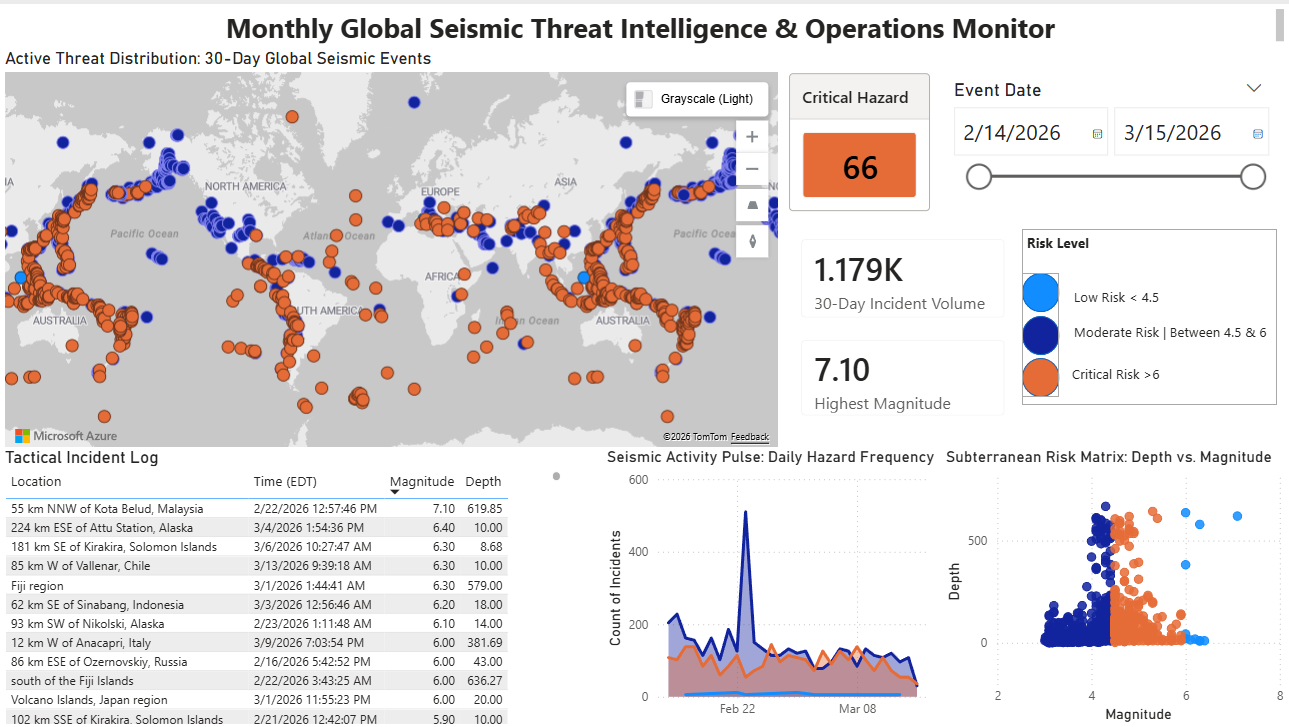

What the dashboard file says about the page in this screenshot:
{"tool":"powerbi","page":{"name":"Page 1","canvas":[1280,720],"ordinal":0},"visuals":[{"type":"azureMap","title":"Active Threat Distribution: 30-Day Global Seismic Events","fields":{"Series":["all_month.Risk Level"],"X":["all_month.longitude"],"Y":["all_month.latitude"]},"box":[0,51.3,778.5,393.5],"z":0},{"type":"group","id":"g1","title":"Group 1","box":[1014.8,267.3,37.2,123.1],"z":0,"group":"g2"},{"type":"shape","box":[1014.8,267.3,37.4,38.9],"z":0,"group":"g1"},{"type":"cardVisual","fields":{"Data":["Count(all_month.features.id)"]},"box":[778.5,216,236.3,112.3],"z":1000},{"type":"textbox","box":[1061,277.2,174.3,42.8],"z":1000,"group":"g2"},{"type":"shape","box":[1014.8,309.6,37.4,38.9],"z":1000,"group":"g1"},{"type":"textbox","box":[1061,311.4,207.5,42.8],"z":2000,"group":"g2"},{"type":"cardVisual","fields":{"Data":["Max(all_month.features.properties.mag)"]},"box":[778.5,316.5,236.3,109.1],"z":2000},{"type":"shape","box":[1014.8,351.5,37.4,38.9],"z":2000,"group":"g1"},{"type":"slicer","fields":{"Values":["all_month.Event EDT"]},"box":[934.6,69.5,331.5,150.8],"z":3000},{"type":"textbox","box":[1059.9,353.1,137.9,44.9],"z":3000,"group":"g2"},{"type":"tableEx","title":"Tactical Incident Log","fields":{"Values":["all_month.features.properties.place","all_month.Event EDT","all_month.features.properties.mag","all_month.depth"]},"box":[0,439.5,562.5,280.2],"z":4000},{"type":"areaChart","title":"Seismic Activity Pulse: Daily Hazard Frequency","fields":{"Y":["CountNonNull(all_month.features.properties.mag)"],"Series":["all_month.Risk Level"],"Category":["all_month.Event EDT.Variation.Date Hierarchy.Year","all_month.Event EDT.Variation.Date Hierarchy.Quarter","all_month.Event EDT.Variation.Date Hierarchy.Month","all_month.Event EDT.Variation.Date Hierarchy.Day"]},"box":[573.2,439.5,361.4,278],"z":5000},{"type":"scatterChart","title":"Subterranean Risk Matrix: Depth vs. Magnitude","fields":{"Y":["all_month.depth"],"X":["all_month.features.properties.mag"],"Series":["all_month.Risk Level"]},"box":[934.6,439.5,345.4,278],"z":6000},{"type":"textbox","box":[0,0,1280,51.3],"z":8000},{"type":"textbox","box":[1014.8,223.5,167.8,34.2],"z":8001,"group":"g2"},{"type":"group","id":"g2","title":"Group 2","box":[1014.8,223.5,253.4,174.3],"z":8002},{"type":"cardVisual","fields":{"Data":["CountNonNull(all_month.features.id)"],"Rows":["all_month.Risk Level"]},"box":[778.5,43.8,150.8,187.1],"z":8003}]}

Visuals, with their boxes in screenshot pixels (x1, y1, x2, y2), scaled from the page's 1280x720 canvas onto the 1289x727 screenshot:
"Active Threat Distribution: 30-Day Global Seismic Events" azureMap: pyautogui.locateOnScreen(0, 52, 784, 449)
"Group 1" group: pyautogui.locateOnScreen(1022, 270, 1059, 394)
shape: pyautogui.locateOnScreen(1022, 270, 1060, 309)
cardVisual - Count(all_month.features.id): pyautogui.locateOnScreen(784, 218, 1022, 331)
textbox: pyautogui.locateOnScreen(1068, 280, 1244, 323)
shape: pyautogui.locateOnScreen(1022, 313, 1060, 352)
textbox: pyautogui.locateOnScreen(1068, 314, 1277, 358)
cardVisual - Max(all_month.features.properties.mag): pyautogui.locateOnScreen(784, 320, 1022, 430)
shape: pyautogui.locateOnScreen(1022, 355, 1060, 394)
slicer - all_month.Event EDT: pyautogui.locateOnScreen(941, 70, 1275, 222)
textbox: pyautogui.locateOnScreen(1067, 357, 1206, 402)
"Tactical Incident Log" tableEx: pyautogui.locateOnScreen(0, 444, 566, 726)
"Seismic Activity Pulse: Daily Hazard Frequency" areaChart: pyautogui.locateOnScreen(577, 444, 941, 724)
"Subterranean Risk Matrix: Depth vs. Magnitude" scatterChart: pyautogui.locateOnScreen(941, 444, 1288, 724)
textbox: pyautogui.locateOnScreen(0, 0, 1288, 52)
textbox: pyautogui.locateOnScreen(1022, 226, 1191, 260)
"Group 2" group: pyautogui.locateOnScreen(1022, 226, 1277, 402)
cardVisual - CountNonNull(all_month.features.id) x all_month.Risk Level: pyautogui.locateOnScreen(784, 44, 936, 233)
